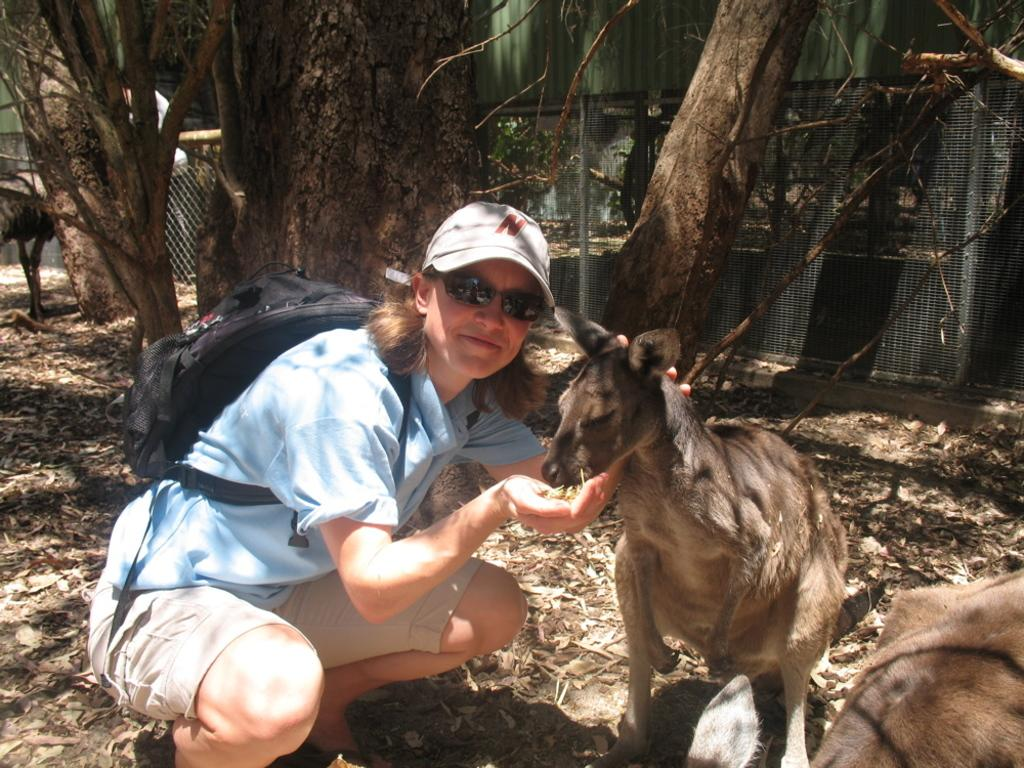kangaroo: (550, 312, 854, 767), (803, 568, 1023, 767)
